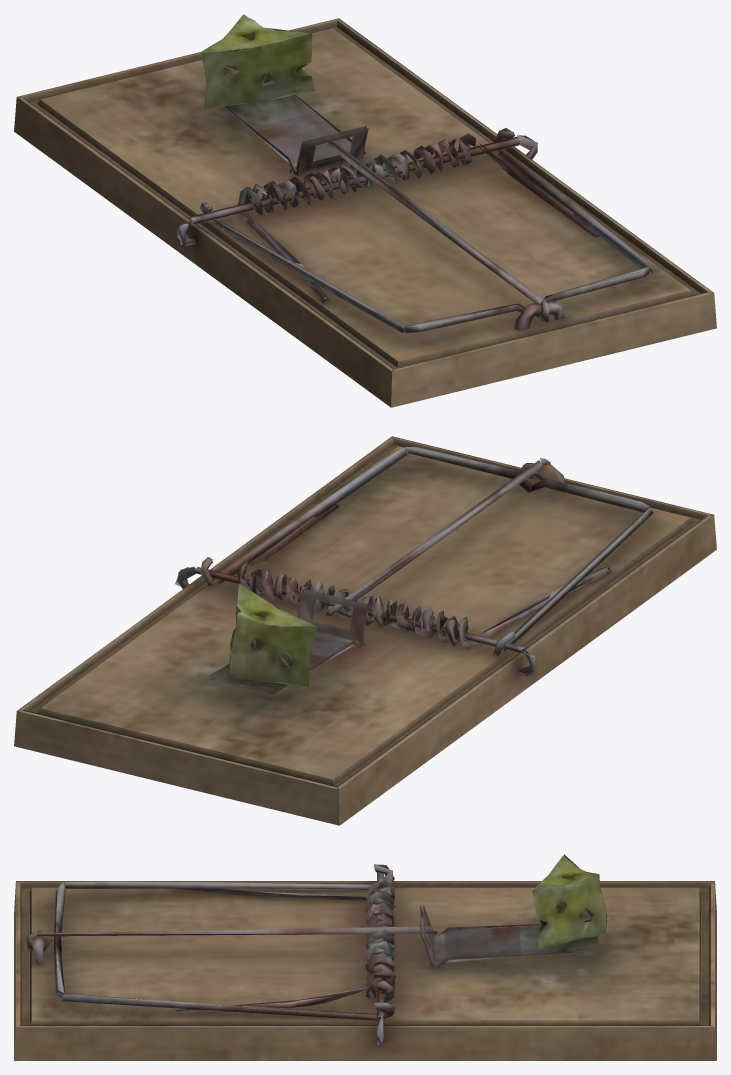
The model's file is mousetrap.glb.
3 renders of one model, top to bottom at view 1: azimuth 30°, elevation 25°; view 2: azimuth 150°, elevation 25°; view 3: azimuth 270°, elevation 25°, orthographic. The views are drawn at different scales.
Visible parts, largest first — view 1: mousetrap; view 2: mousetrap; view 3: mousetrap.
Boxes of the visible parts, x1,y1,x2,y2 form: mousetrap: (14, 14, 716, 407); mousetrap: (14, 436, 716, 825); mousetrap: (14, 854, 716, 1060).
Size of the model in its own units: 0.0552 by 0.018 by 0.1002.
1 material, 1 textured.
